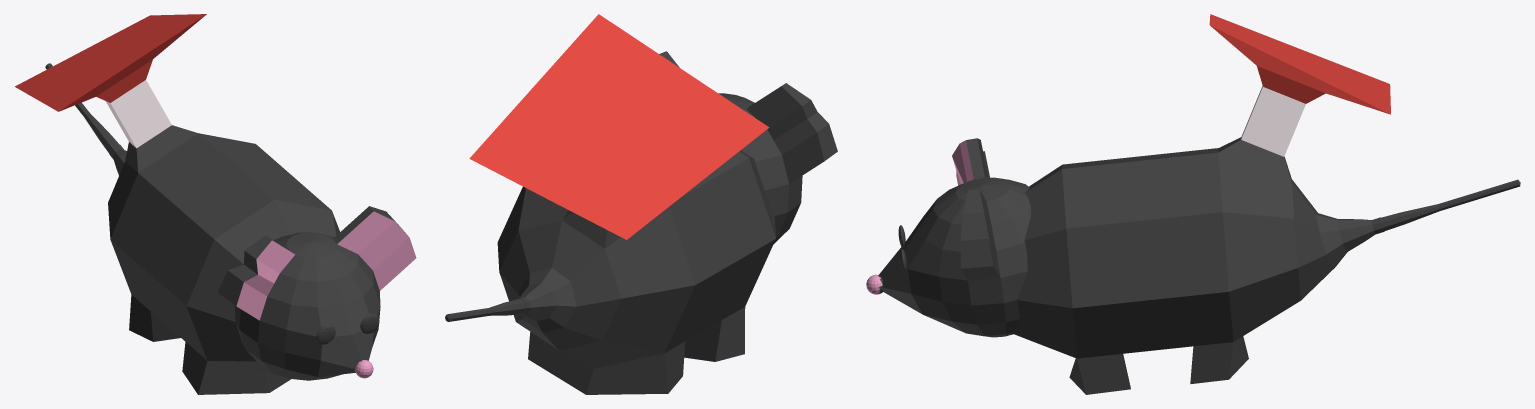
Rendered from mouse.fbx.
The picture shows the model from 3 angles, left to right: view 1: azimuth 30°, elevation 25°; view 2: azimuth 150°, elevation 25°; view 3: azimuth 270°, elevation 25°; orthographic projection. The views are drawn at different scales.
Visible parts, largest first — view 1: Sphere; view 2: Sphere; view 3: Sphere.
Boxes of the visible parts, x1,y1,x2,y2 form: Sphere: (14,14,416,394); Sphere: (445,14,837,394); Sphere: (866,14,1520,394).
Bounding box in the file's own units: 274 × 355 × 595.
